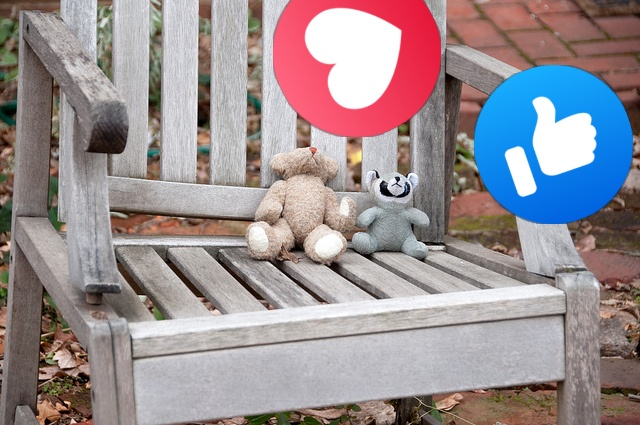like: (474, 65, 633, 224)
love: (273, 0, 441, 137)
